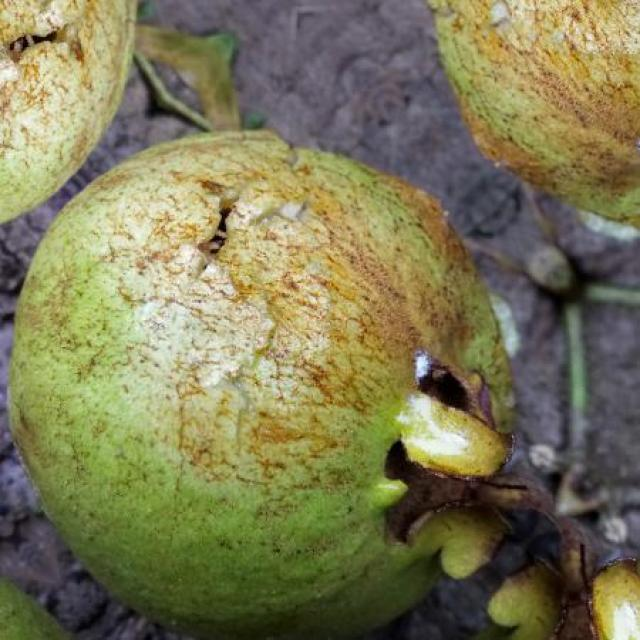Styler and Root: (10, 131, 511, 636), (429, 0, 640, 226)
